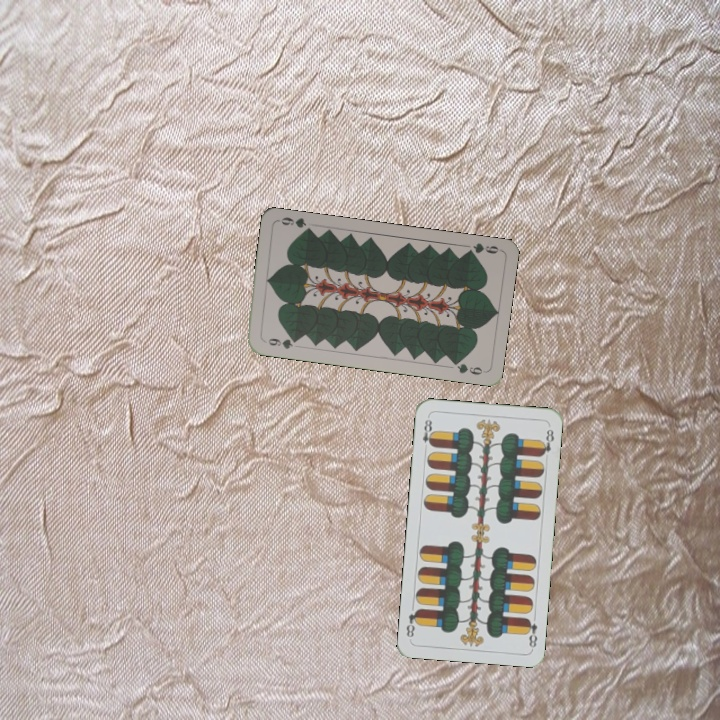E8: (418, 413, 436, 449), (522, 614, 540, 650)
G9: (462, 239, 503, 258), (259, 334, 300, 352)
